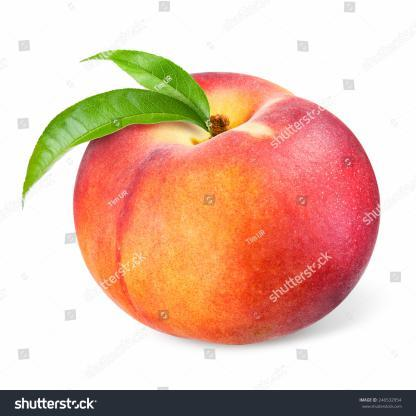Peach leaf: (15, 88, 206, 207), (85, 46, 214, 125)
